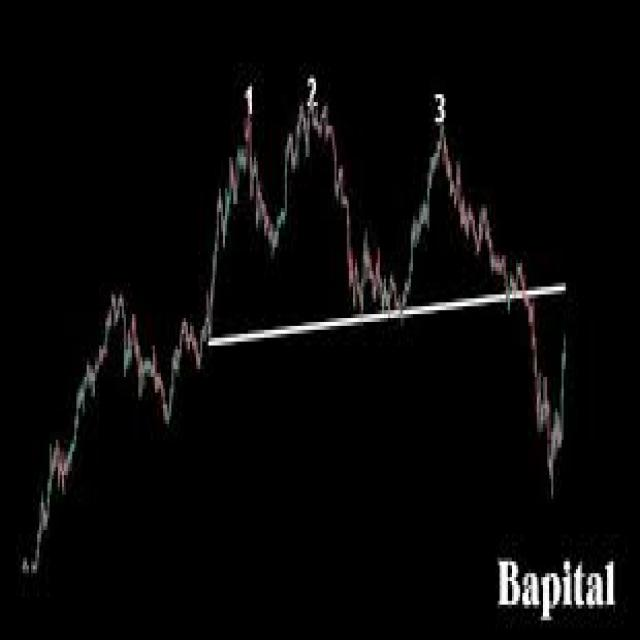Triple-Top: (197, 112, 506, 310)
